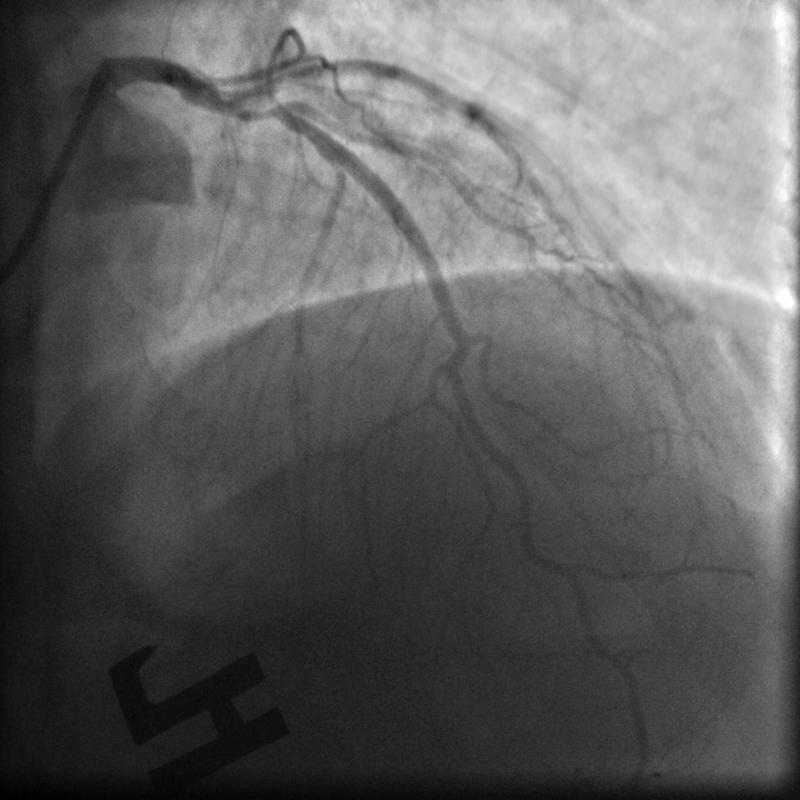Stenosis: (211, 83, 294, 125)
